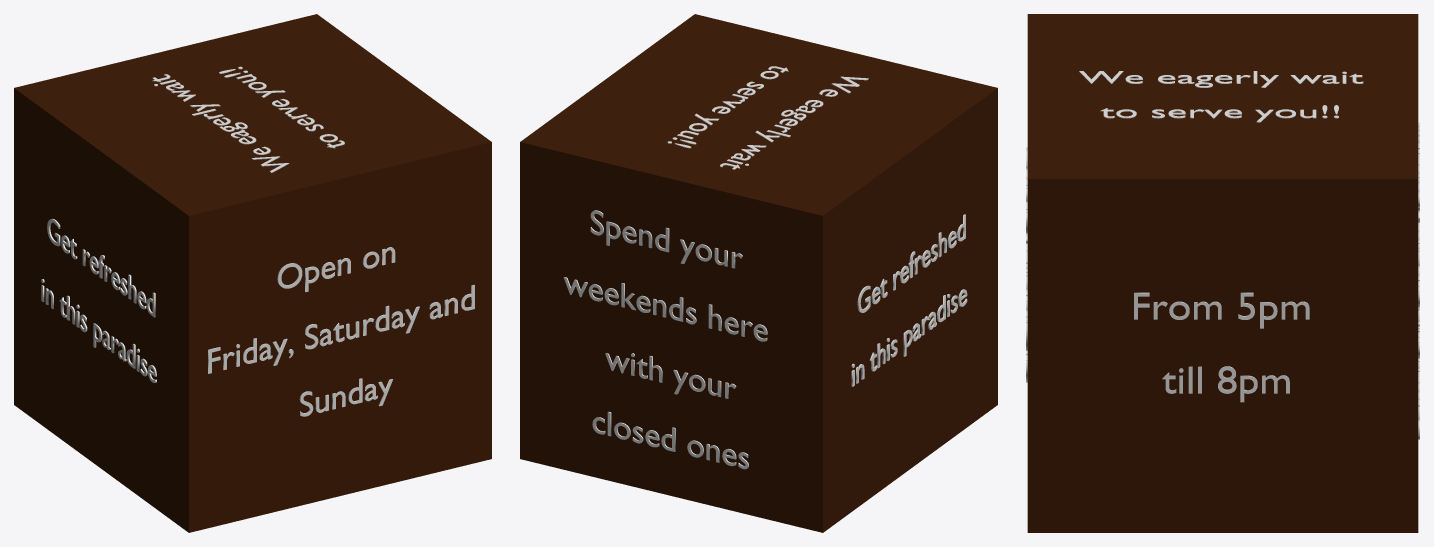
The picture shows the model from 3 angles, left to right: view 1: azimuth 30°, elevation 25°; view 2: azimuth 150°, elevation 25°; view 3: azimuth 270°, elevation 25°; orthographic projection. The views are drawn at different scales.
Parts seen in each view (by area): view 1: Cube, Text, Text.003, Text.004; view 2: Cube, Text.002, Text.003, Text.004; view 3: Cube, Text.001, Text.004, Text.002, Text.
Boxes of the visible parts, x1,y1,x2,y2 form: Cube: [14, 14, 491, 532]; Text: [208, 247, 474, 416]; Text.003: [41, 218, 156, 383]; Text.004: [152, 66, 344, 172]; Cube: [520, 14, 997, 532]; Text.002: [563, 210, 767, 469]; Text.003: [851, 214, 967, 386]; Text.004: [667, 66, 868, 169]; Cube: [1027, 14, 1418, 532]; Text.001: [1134, 292, 1309, 402]; Text.004: [1079, 71, 1363, 122]; Text.002: [1418, 123, 1419, 439]; Text: [1026, 147, 1027, 382].
Size of the model in its own units: 3.71 by 3.7 by 3.71.
